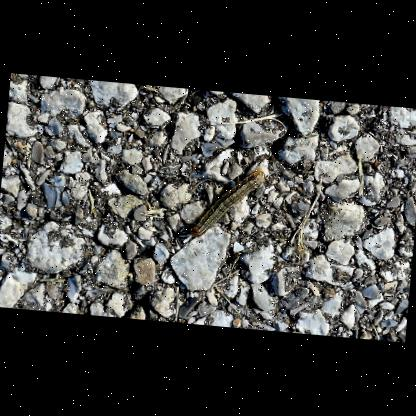Fall Armyworm Larvae: (184, 160, 268, 244)
